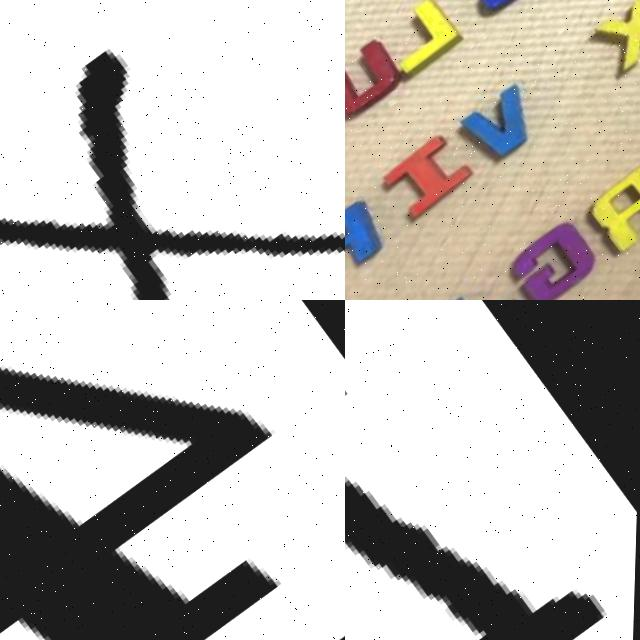B: (456, 0, 550, 19)
D: (345, 300, 640, 640)
G: (502, 212, 606, 300)
I: (373, 127, 475, 225)
J: (428, 269, 530, 300)
L: (373, 0, 470, 84)
P: (345, 192, 392, 281)
R: (582, 161, 640, 254)
U: (345, 31, 413, 127)
V: (459, 81, 547, 166)
X: (0, 0, 345, 300), (589, 0, 640, 72)
